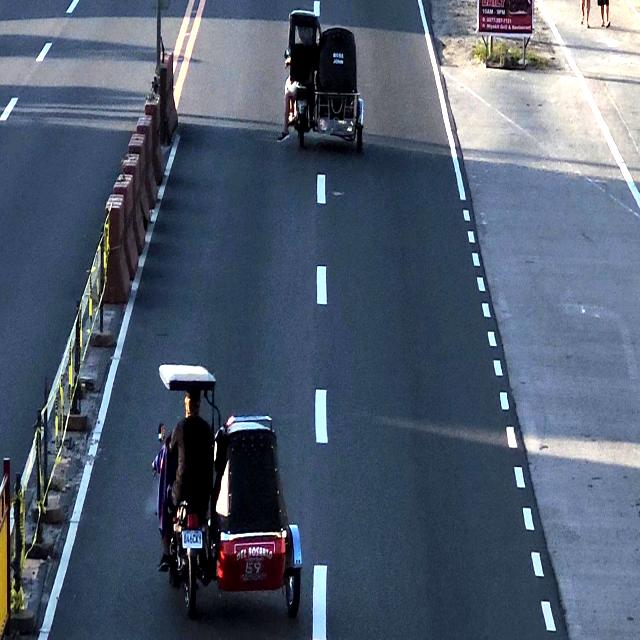License-Plate: (182, 524, 203, 550)
Tricycle: (157, 358, 303, 613), (282, 13, 367, 149)
